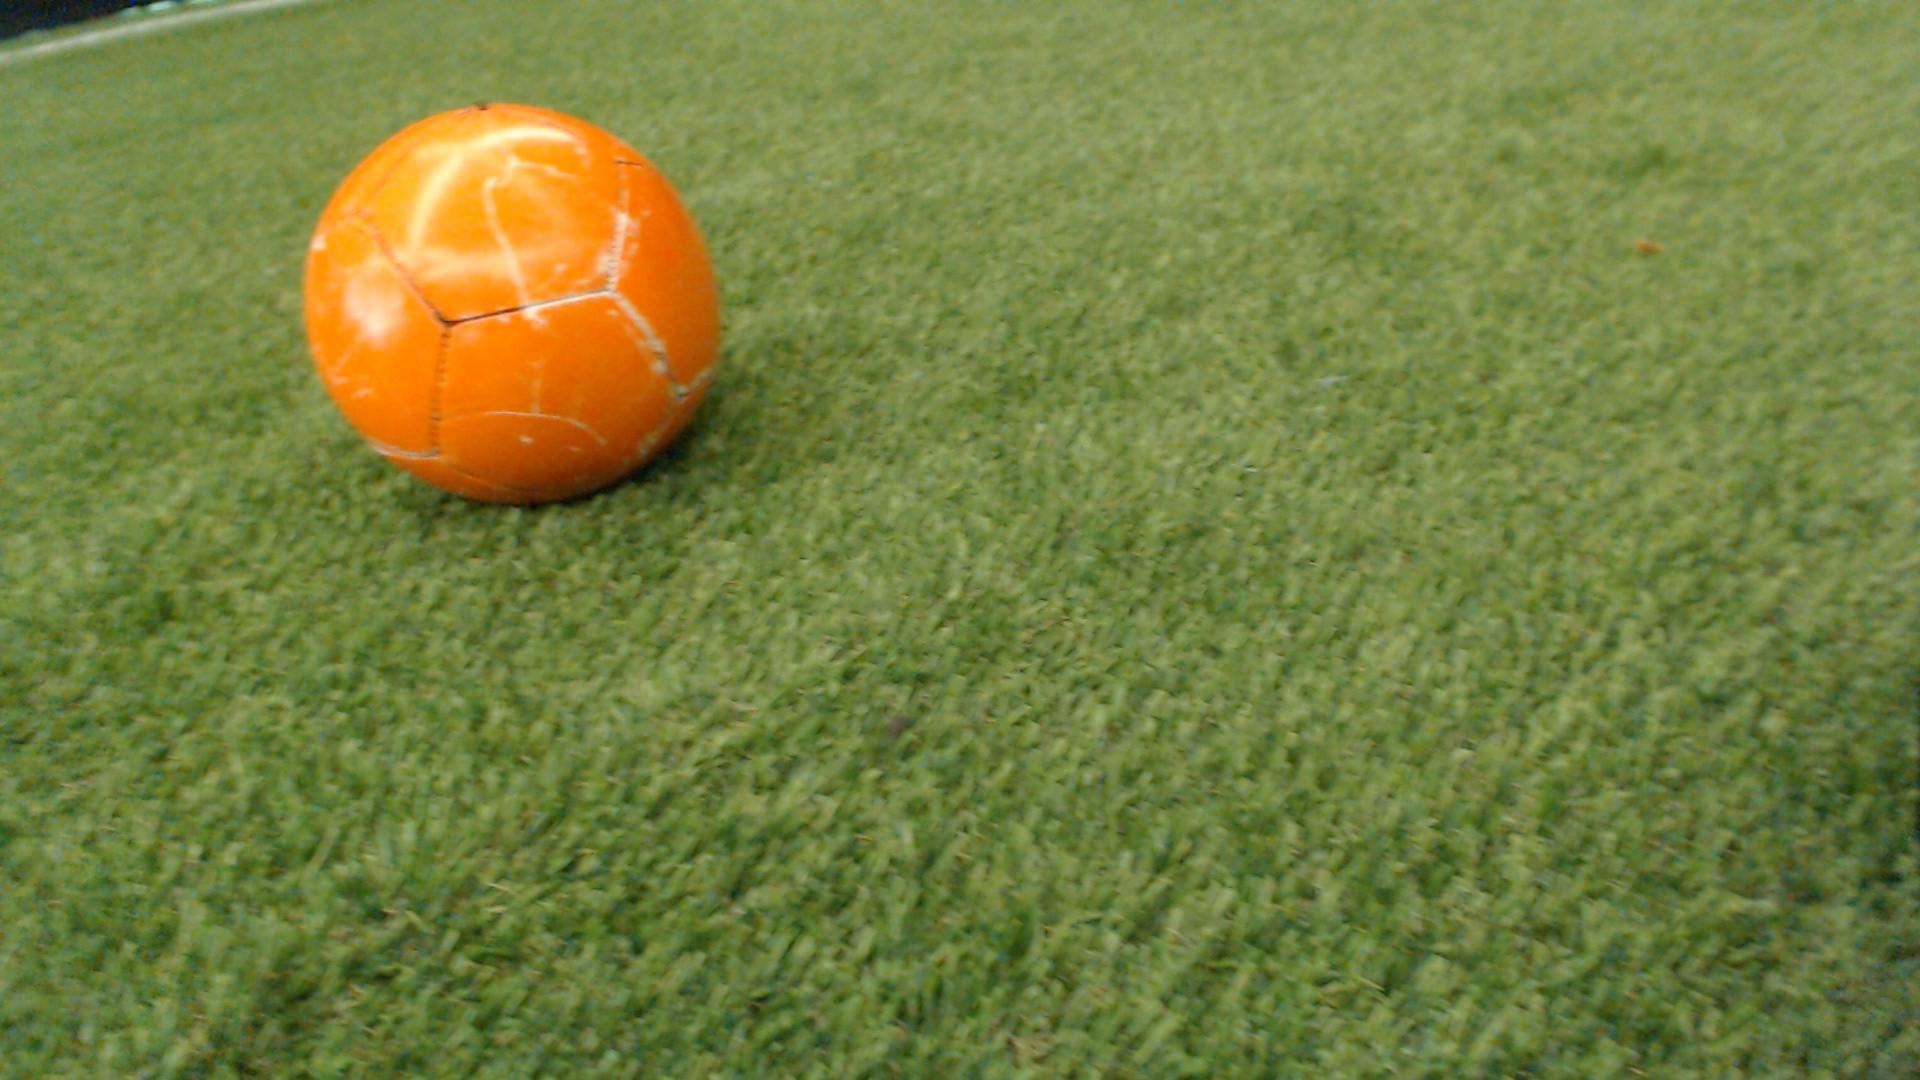bola: (265, 100, 754, 512)
